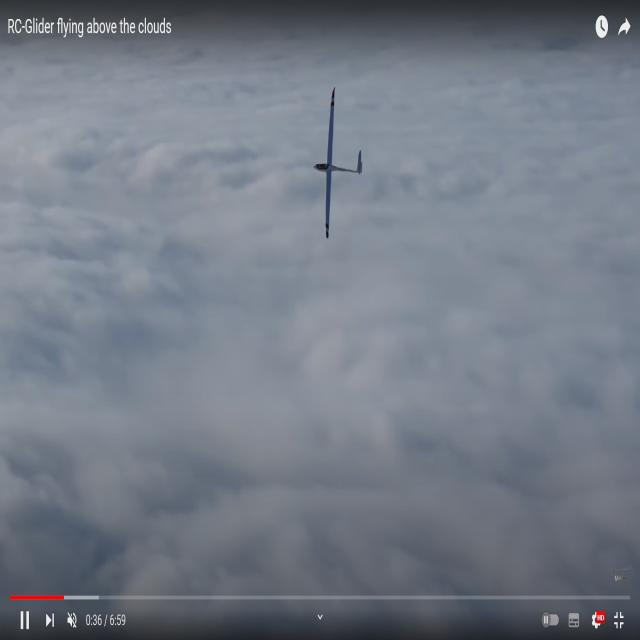iha: (312, 87, 363, 239)
